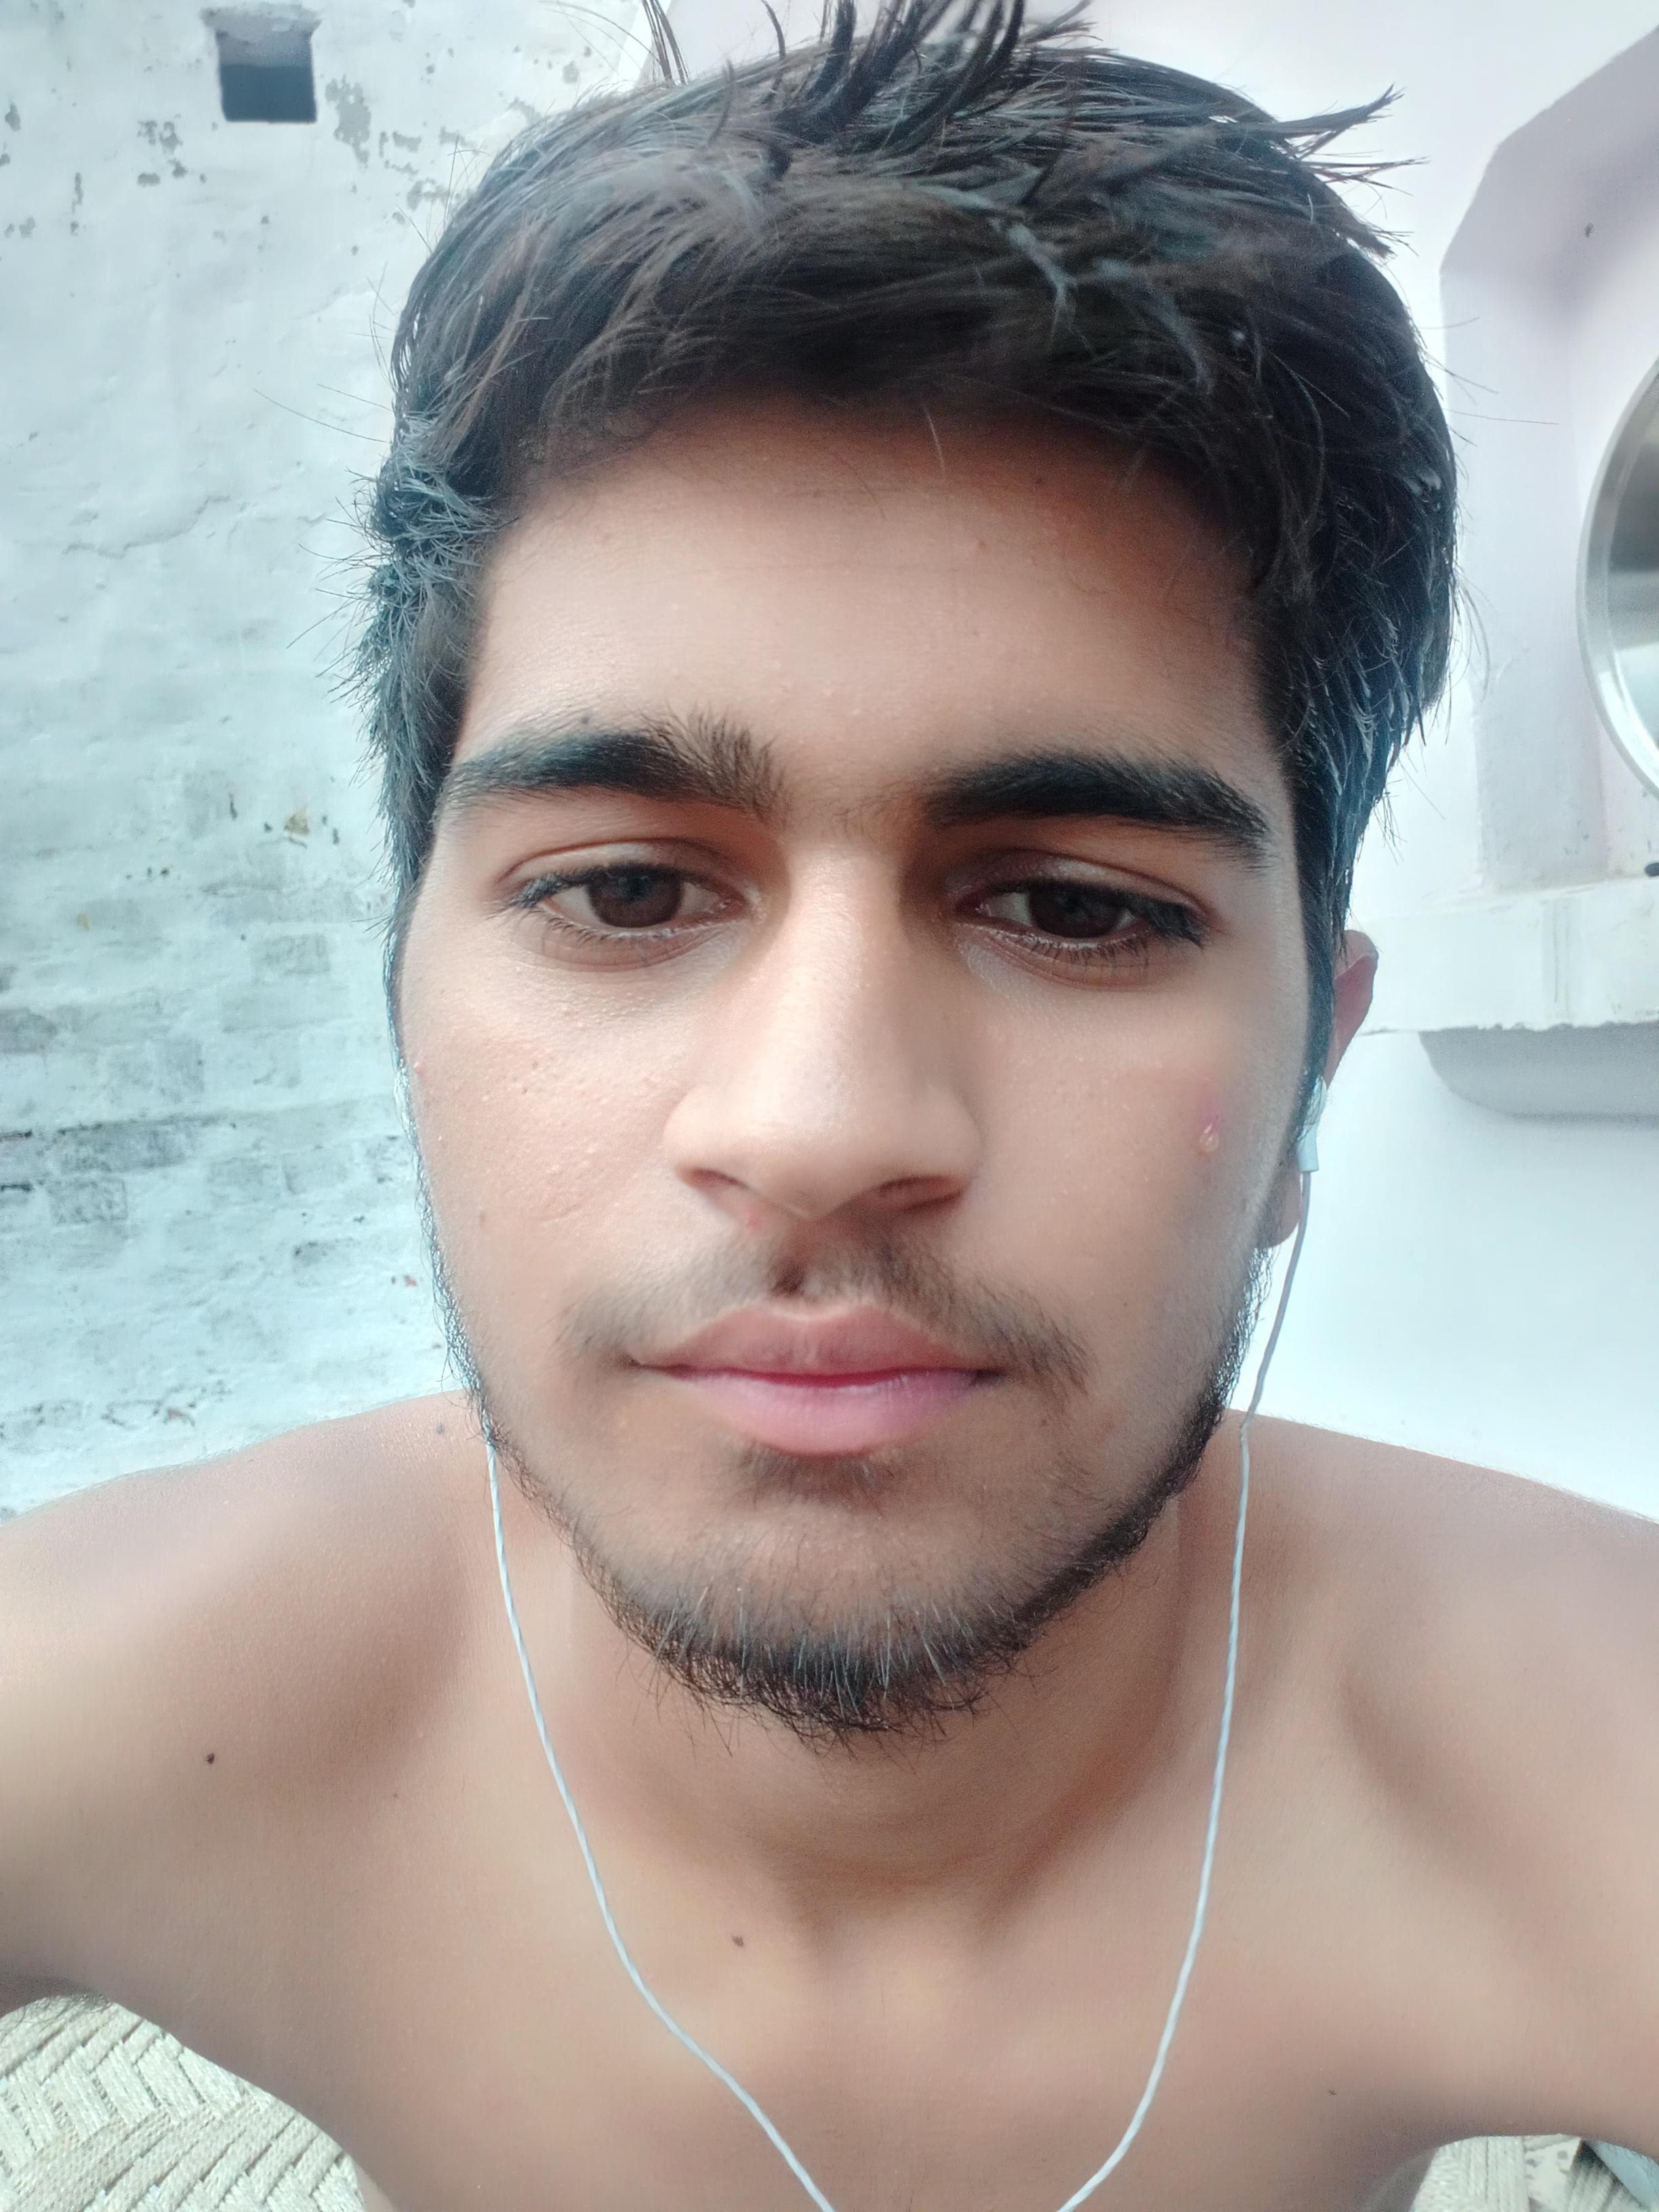Acne: (554, 995, 594, 1042), (1086, 1409, 1121, 1447), (404, 1047, 432, 1094), (721, 1212, 779, 1235), (432, 1129, 457, 1158), (974, 535, 992, 550)
Eyebags: (1183, 1108, 1230, 1167)
Wrinkles: (685, 475, 1018, 505), (669, 556, 967, 582)
